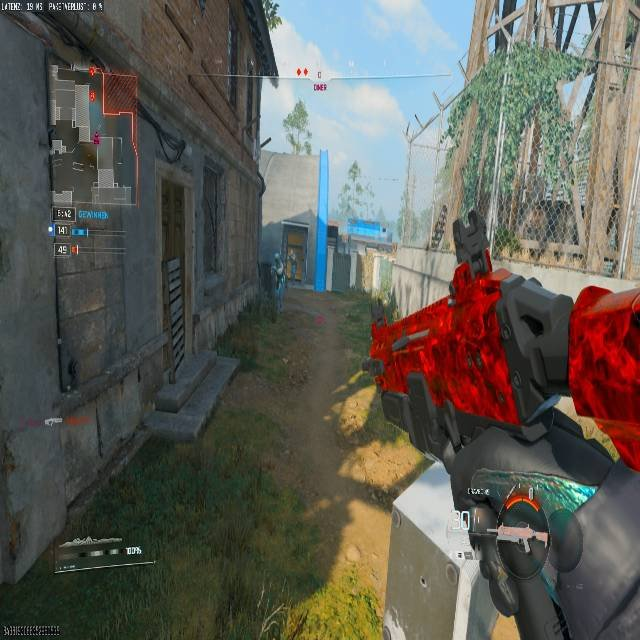head: (566, 284, 639, 424)
player: (324, 278, 640, 640), (264, 251, 287, 314), (286, 253, 296, 280)
